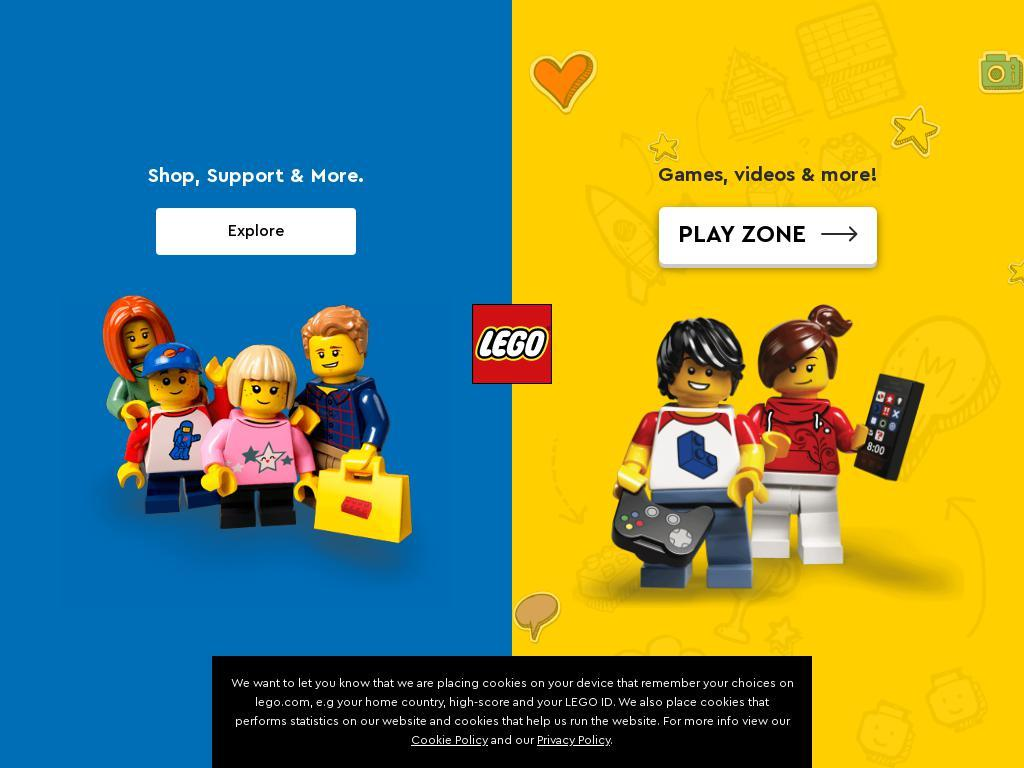button: (0, 167, 1024, 487), (659, 207, 877, 265), (612, 527, 712, 640), (156, 208, 356, 256), (30, 687, 181, 738), (201, 687, 352, 738), (172, 527, 252, 622), (282, 527, 362, 622), (392, 527, 472, 622), (502, 527, 582, 622), (742, 527, 822, 622), (110, 373, 245, 420), (492, 8, 532, 48), (949, 0, 969, 56), (984, 0, 1004, 56), (914, 0, 934, 50), (968, 78, 984, 94), (20, 33, 46, 42)
field: (20, 66, 1004, 106)
heading: (30, 355, 994, 399), (658, 159, 878, 191), (148, 160, 364, 192), (110, 279, 333, 303)
image: (0, 167, 1024, 487), (60, 295, 452, 608), (572, 304, 964, 609), (472, 304, 552, 384), (172, 527, 252, 592), (282, 527, 362, 592), (392, 527, 472, 592), (502, 527, 582, 592), (622, 527, 702, 592), (742, 527, 822, 592), (256, 116, 340, 166), (110, 237, 260, 258), (492, 8, 532, 48), (486, 452, 538, 462), (914, 15, 934, 35), (949, 17, 969, 37), (984, 17, 1004, 37), (968, 78, 984, 94)
link: (198, 520, 305, 536), (30, 520, 135, 536), (411, 734, 488, 746), (537, 734, 610, 746), (704, 134, 768, 147)
text: (30, 557, 994, 657), (30, 425, 994, 475), (230, 677, 794, 727), (30, 495, 972, 511), (110, 322, 433, 355), (305, 520, 929, 536), (20, 735, 229, 767), (354, 134, 693, 147), (678, 223, 806, 248), (217, 704, 336, 720), (126, 384, 201, 409), (632, 608, 692, 638), (135, 520, 198, 536), (510, 608, 574, 620), (293, 608, 351, 620), (488, 734, 537, 746), (414, 608, 450, 620), (199, 608, 225, 620), (20, 33, 46, 42), (773, 608, 791, 620), (955, 37, 963, 56), (990, 37, 998, 56), (610, 734, 613, 746)
